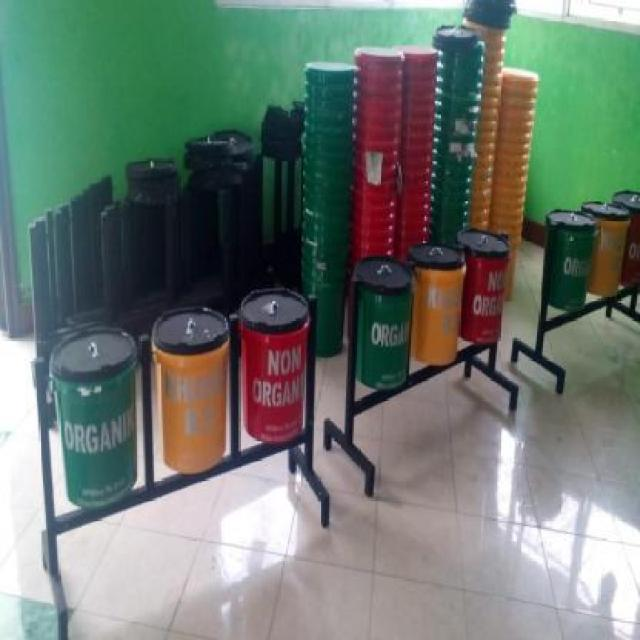garbage container: (44, 322, 138, 529), (145, 299, 232, 486), (233, 275, 313, 460), (348, 248, 415, 406), (456, 210, 512, 368), (407, 233, 462, 378), (541, 198, 596, 328)
